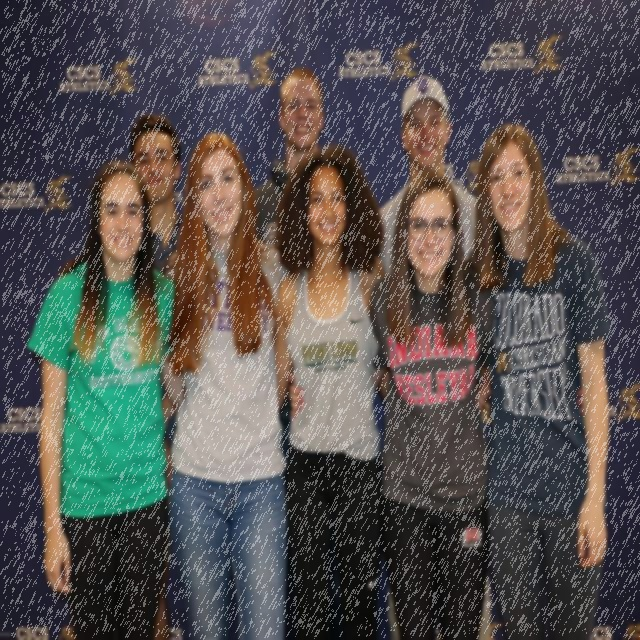pessoa: (178, 127, 494, 639), (288, 166, 586, 638), (461, 121, 615, 639), (25, 158, 189, 639), (160, 129, 298, 639), (128, 110, 186, 640), (375, 73, 478, 279), (250, 64, 326, 242)
